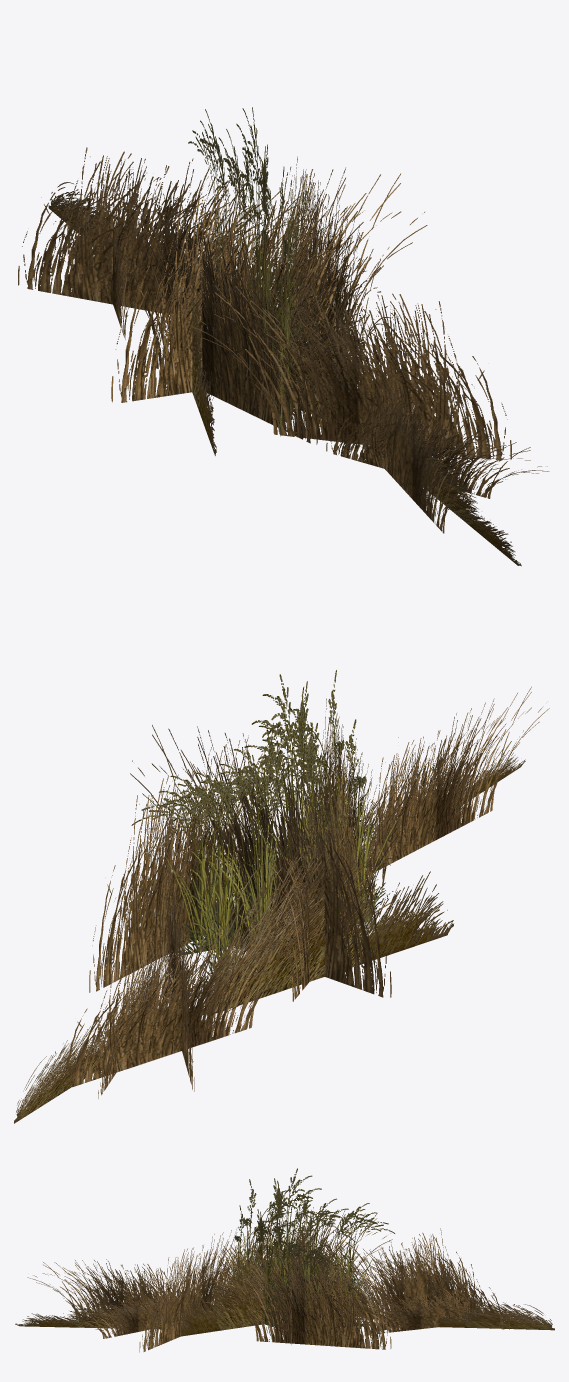
The model's file is Grass_1.glb.
3 renders of one model, top to bottom at view 1: azimuth 30°, elevation 25°; view 2: azimuth 150°, elevation 25°; view 3: azimuth 270°, elevation 25°, orthographic. The views are drawn at different scales.
Visible parts, largest first — view 1: DryGrass-material, DryGrass2-material, DryGrass3-material; view 2: DryGrass-material, DryGrass3-material, DryGrass2-material; view 3: DryGrass-material, DryGrass2-material, DryGrass3-material.
Boxes of the visible parts, left/top/right/bottom form: DryGrass-material: left=18, top=147, right=549, bottom=533; DryGrass2-material: left=48, top=182, right=521, bottom=566; DryGrass3-material: left=188, top=107, right=309, bottom=436; DryGrass-material: left=58, top=686, right=549, bottom=1098; DryGrass3-material: left=131, top=670, right=402, bottom=996; DryGrass2-material: left=14, top=747, right=525, bottom=1123; DryGrass-material: left=27, top=1203, right=509, bottom=1352; DryGrass2-material: left=15, top=1230, right=554, bottom=1336; DryGrass3-material: left=219, top=1168, right=394, bottom=1328.
Size of the model in its own units: 1.97 by 1.88 by 5.62.
Materials: 3 (3 with a texture image).
